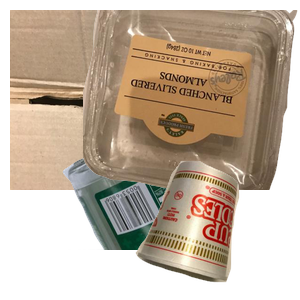cardboard: (10, 10, 250, 190)
glass: (60, 120, 300, 300)
plastic: (83, 10, 300, 190)
trash: (133, 158, 300, 300)
